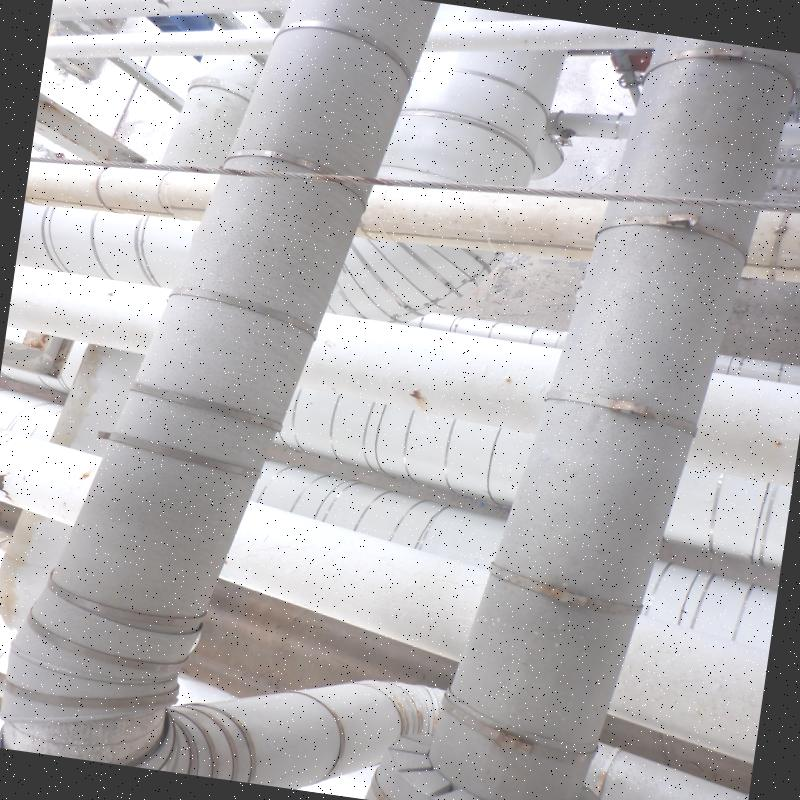corrosion: (405, 384, 429, 401), (0, 467, 6, 495)
